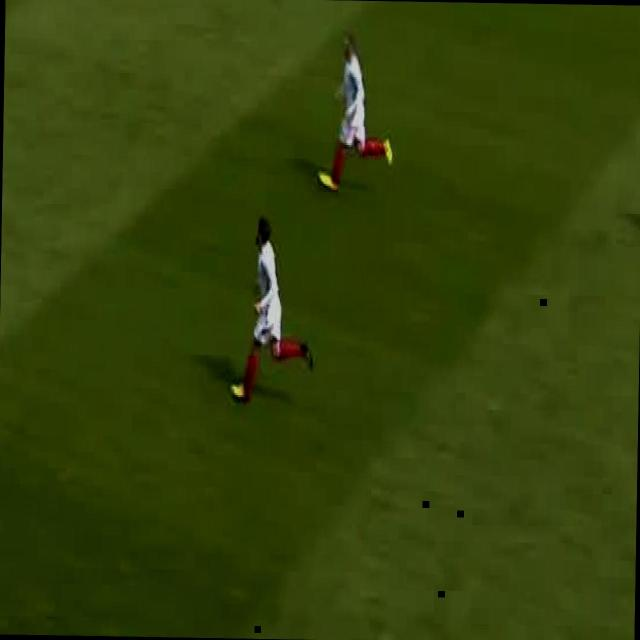player-white: (230, 217, 316, 403), (318, 32, 396, 194)
